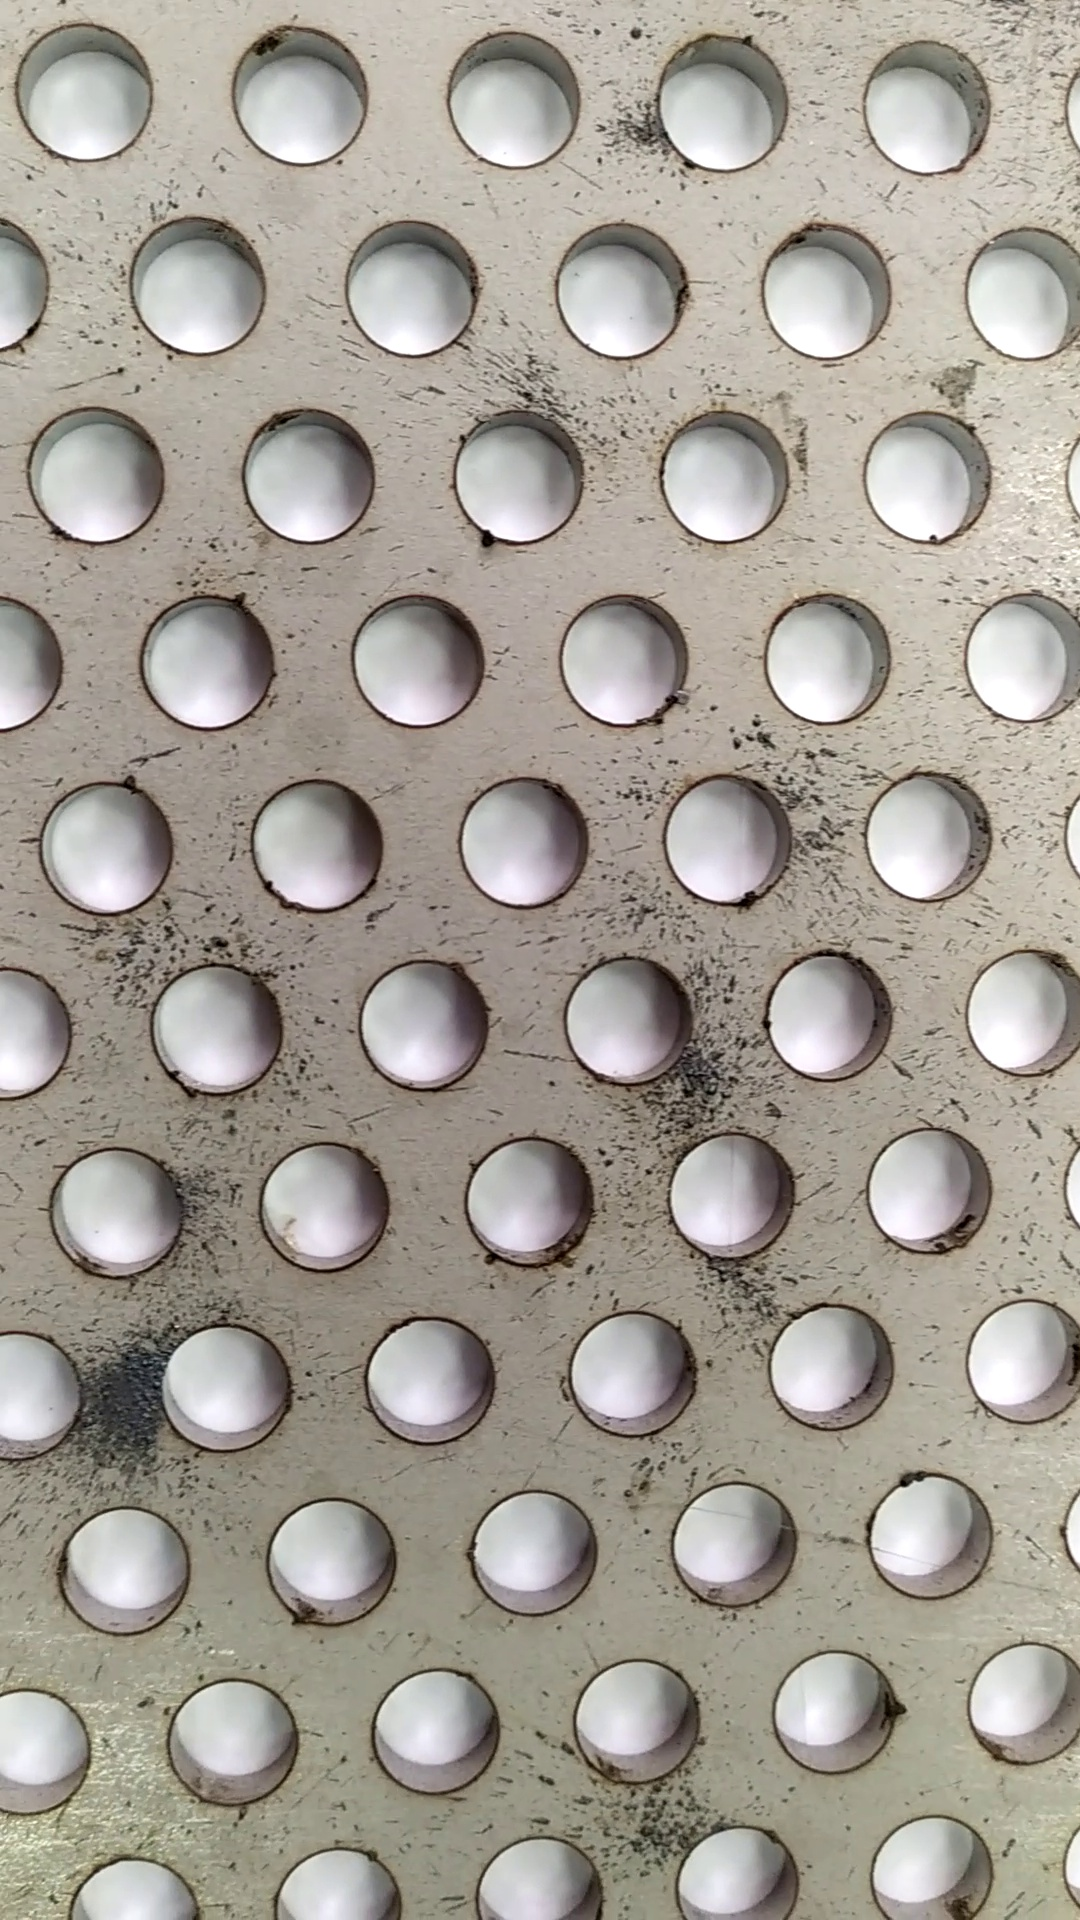Hole: (332, 207, 498, 371), (116, 207, 284, 368), (851, 32, 1022, 189), (3, 17, 167, 175), (225, 20, 394, 173), (128, 582, 289, 738), (16, 396, 179, 550), (845, 401, 1014, 549), (451, 1126, 612, 1280), (342, 583, 502, 736), (541, 585, 704, 735), (45, 1497, 210, 1644), (645, 397, 800, 553), (433, 24, 591, 177), (233, 397, 392, 550), (438, 400, 593, 554), (645, 24, 798, 181), (753, 215, 909, 368), (258, 1487, 414, 1640), (30, 771, 189, 922), (41, 1139, 202, 1287), (752, 583, 909, 732), (237, 773, 394, 922), (462, 1477, 618, 1626), (549, 215, 704, 364), (853, 756, 998, 915), (448, 770, 607, 915), (559, 1298, 712, 1447), (357, 1307, 510, 1456), (661, 1476, 816, 1622), (564, 1648, 724, 1791), (152, 1673, 322, 1807), (136, 956, 295, 1097), (247, 1131, 402, 1275), (757, 940, 905, 1091), (765, 1294, 913, 1444), (857, 1468, 1014, 1609), (659, 1122, 808, 1270), (549, 949, 700, 1095), (149, 1313, 301, 1458), (349, 952, 498, 1098), (857, 1120, 1002, 1269), (365, 1658, 512, 1803), (653, 770, 796, 915), (764, 1644, 913, 1783)
